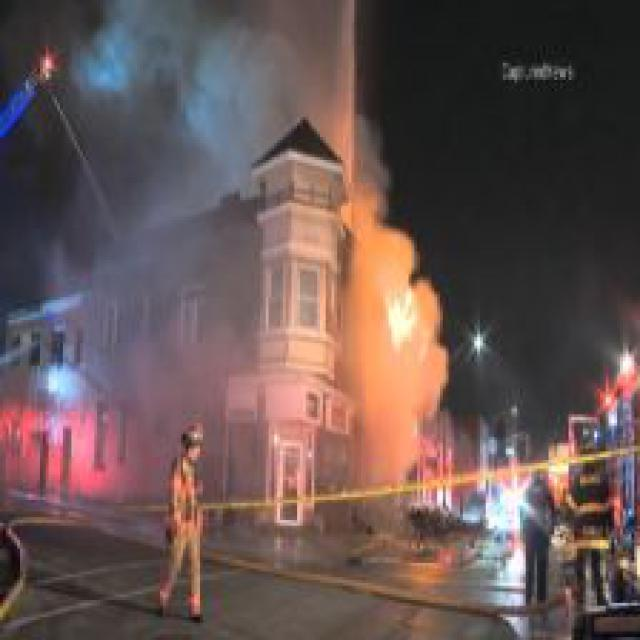fire: (343, 197, 446, 454)
